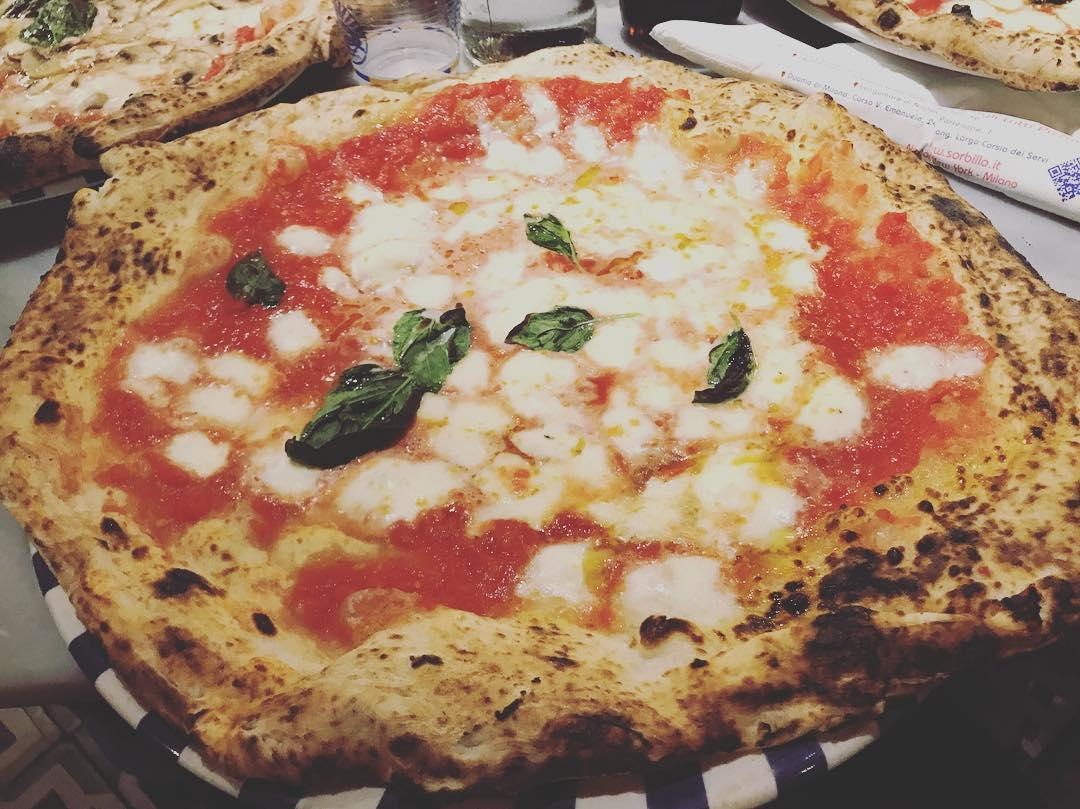Basil: (286, 305, 472, 465), (502, 307, 600, 353), (700, 329, 758, 401), (225, 249, 290, 310), (521, 212, 588, 262)
Cheese: (487, 373, 692, 522), (601, 163, 782, 317), (351, 171, 506, 289), (142, 350, 271, 468)
Pizza: (0, 49, 1080, 779)
